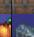chest: (11, 0, 34, 14), (0, 0, 11, 14)
